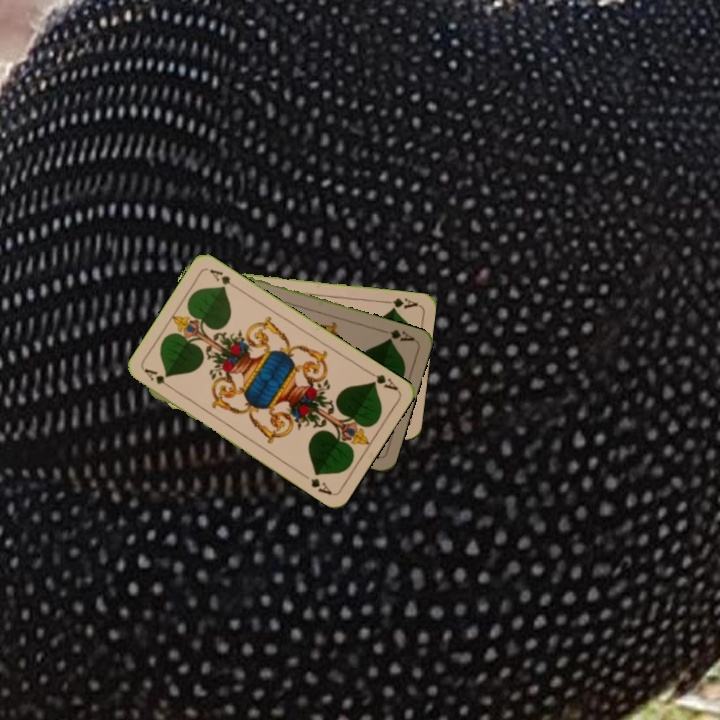GA: (140, 364, 176, 393), (363, 366, 400, 393), (379, 294, 420, 313), (378, 325, 417, 344)
